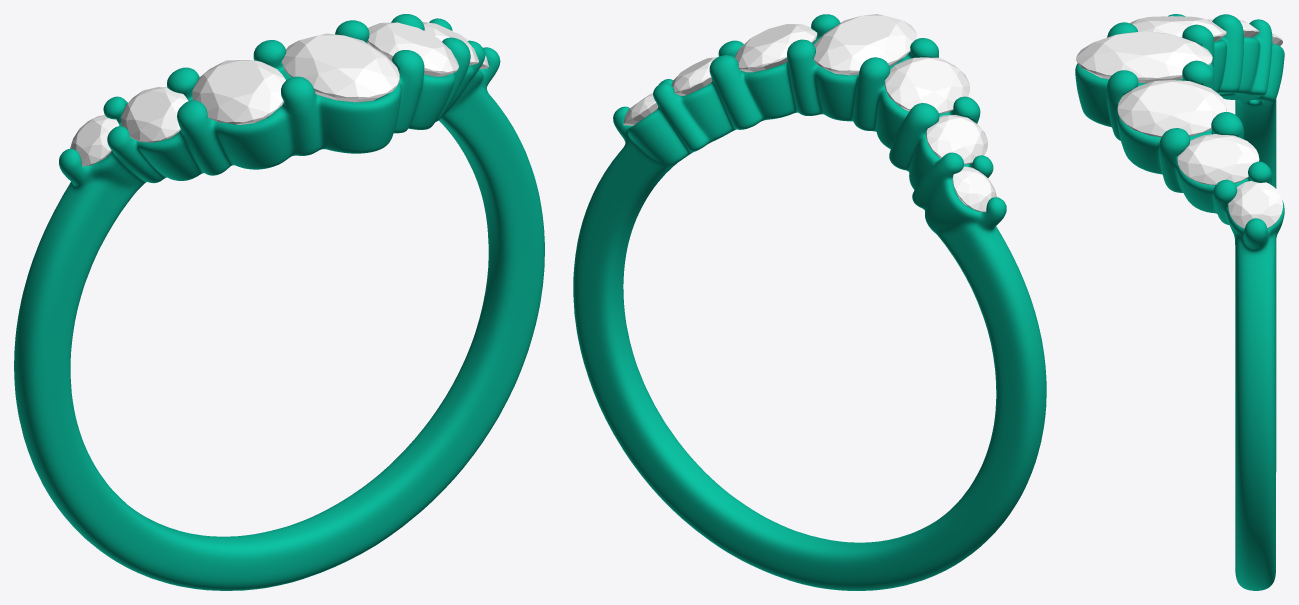
Rendered from BE2D457_RENDER.glb.
3 renders of one model, left to right at view 1: azimuth 30°, elevation 25°; view 2: azimuth 150°, elevation 25°; view 3: azimuth 270°, elevation 25°, orthographic. The views are drawn at different scales.
Parts seen in each view (by area): view 1: Metal03, Diamond_Oval_Gem_BD.002, Diamond_Oval_Gem_BD.004, Diamond_Oval_Gem_BD.003, Diamond_Oval_Gem_BD, Diamond_Round_Gem_BD.001; view 2: Metal03, Diamond_Oval_Gem_BD.002, Diamond_Oval_Gem_BD.004, Diamond_Oval_Gem_BD, Diamond_Oval_Gem_BD.003, Diamond_Round_Gem_BD.001, Diamond_Oval_Gem_BD.001; view 3: Metal03, Diamond_Oval_Gem_BD.002, Diamond_Oval_Gem_BD, Diamond_Oval_Gem_BD.001, Diamond_Round_Gem_BD, Diamond_Oval_Gem_BD.004.
Boxes of the visible parts, x1,y1,x2,y2 form: Metal03: [14, 14, 544, 590]; Diamond_Oval_Gem_BD.002: [282, 33, 399, 102]; Diamond_Oval_Gem_BD.004: [192, 60, 285, 124]; Diamond_Oval_Gem_BD.003: [121, 87, 188, 142]; Diamond_Oval_Gem_BD: [367, 22, 458, 76]; Diamond_Round_Gem_BD.001: [70, 115, 119, 166]; Metal03: [573, 14, 1046, 590]; Diamond_Oval_Gem_BD.002: [813, 14, 916, 75]; Diamond_Oval_Gem_BD.004: [885, 57, 969, 113]; Diamond_Oval_Gem_BD: [734, 24, 817, 72]; Diamond_Oval_Gem_BD.003: [926, 115, 987, 164]; Diamond_Round_Gem_BD.001: [952, 166, 996, 212]; Diamond_Oval_Gem_BD.001: [671, 57, 717, 95]; Metal03: [1075, 14, 1284, 590]; Diamond_Oval_Gem_BD.002: [1076, 31, 1212, 83]; Diamond_Oval_Gem_BD: [1117, 80, 1226, 136]; Diamond_Oval_Gem_BD.001: [1177, 134, 1259, 185]; Diamond_Round_Gem_BD: [1228, 181, 1282, 228]; Diamond_Oval_Gem_BD.004: [1130, 16, 1226, 41].
Size of the model in its own units: 20.06 by 21.11 by 7.68.
